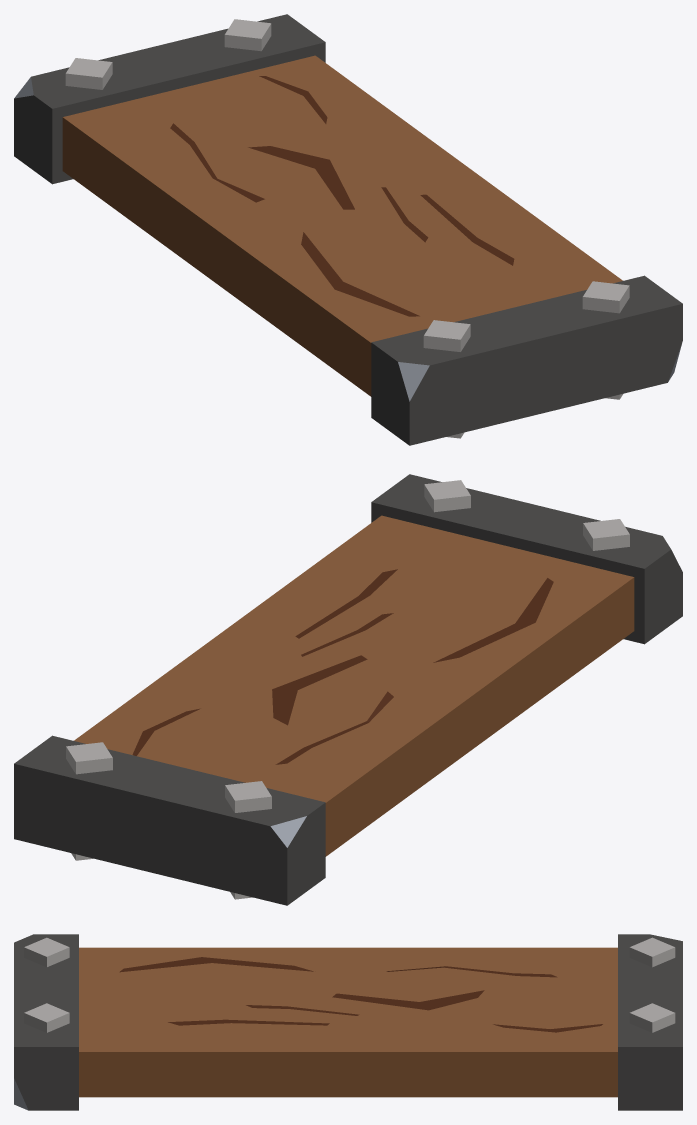
File: Wooden_Platform_Singular.fbx
3 views of the same model, one above another, from view 1: azimuth 30°, elevation 25°; view 2: azimuth 150°, elevation 25°; view 3: azimuth 270°, elevation 25° (orthographic). The views are drawn at different scales.
Visible parts, largest first — view 1: Wooden_Platform_Singular; view 2: Wooden_Platform_Singular; view 3: Wooden_Platform_Singular.
Part boxes in pixels (left/top/right/bottom): Wooden_Platform_Singular: left=14, top=14, right=682, bottom=445; Wooden_Platform_Singular: left=14, top=474, right=682, bottom=905; Wooden_Platform_Singular: left=14, top=934, right=682, bottom=1110.
Bounding box in the file's own units: 0.6566 × 0.2268 × 1.65.
